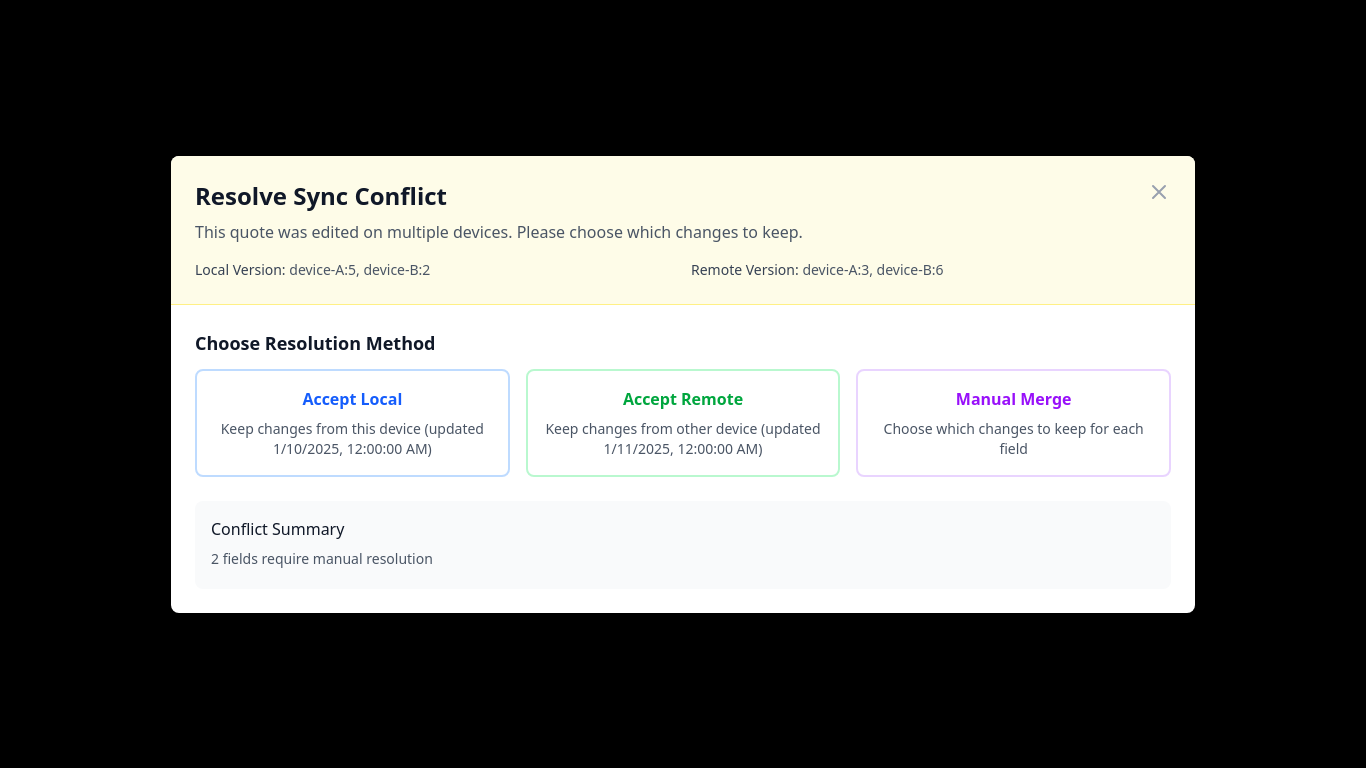
ConflictResolver › Manual Merge › allows selecting local or remote for each field
Step 1. Click the text "Manual Merge" → [1014, 398], box [956,388,1072,410]
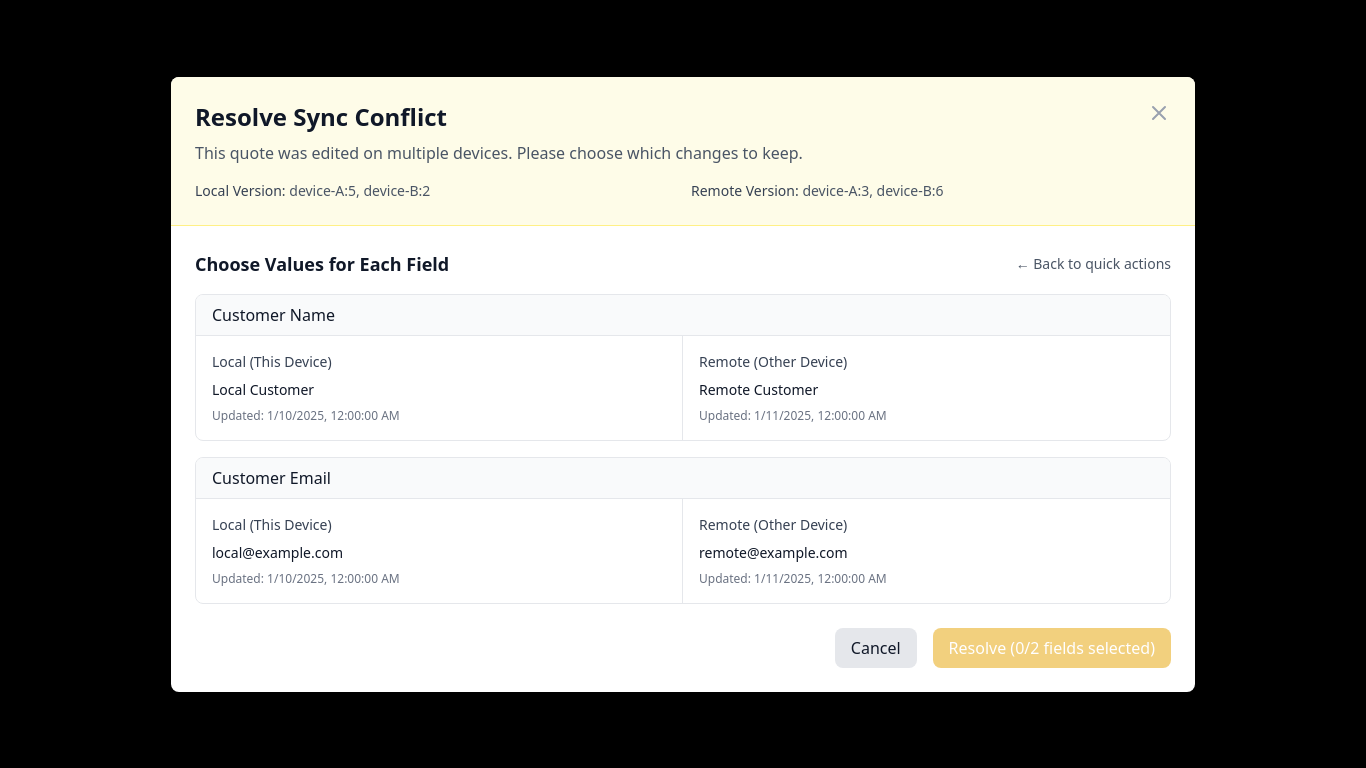
# Click on local value for customer_name
Step 2. Click the button "Local Customer" → [272, 361], box [196,336,683,440]
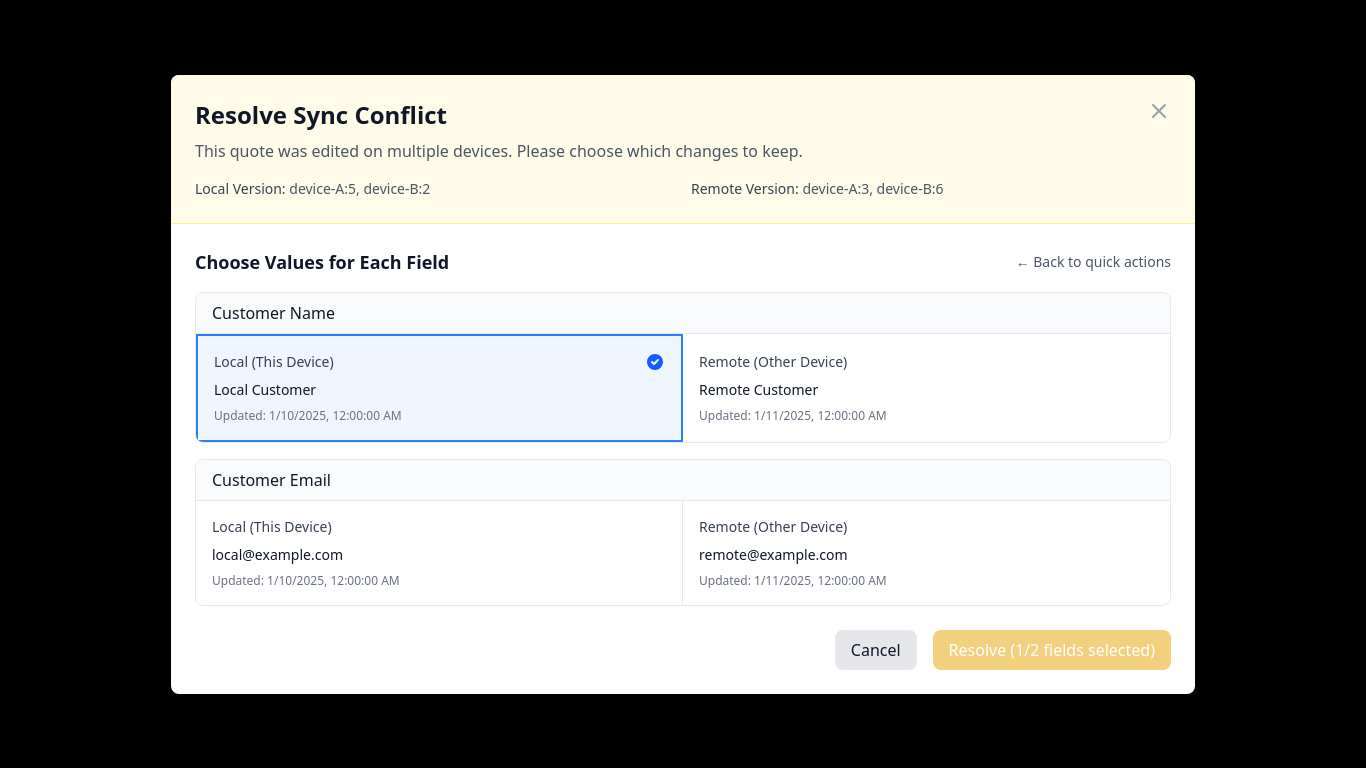
# Click on remote value for customer_email
Step 3. Click the button "remote@example.com" → [773, 526], box [683,500,1170,604]
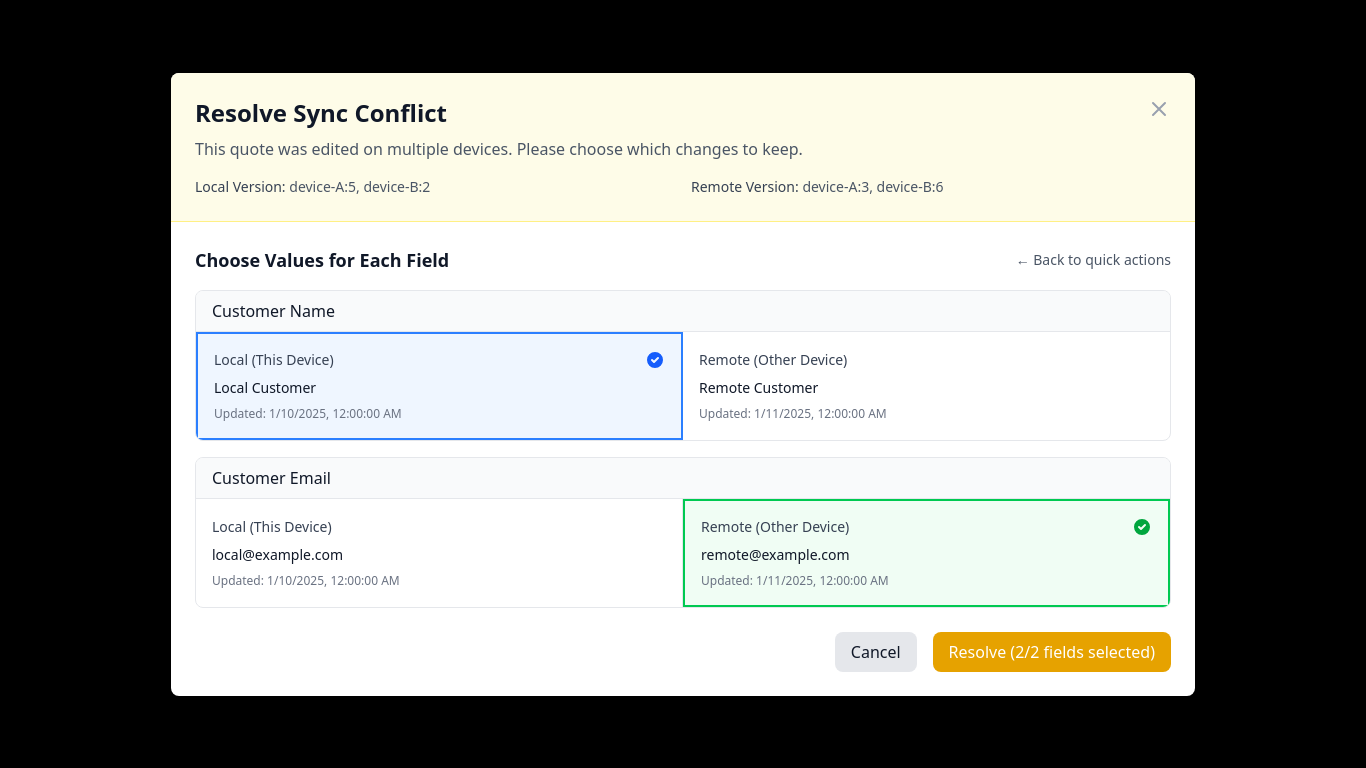
Expected: the button "Resolve (2/2 fields selected)" is enabled, [933,632,1171,672]
